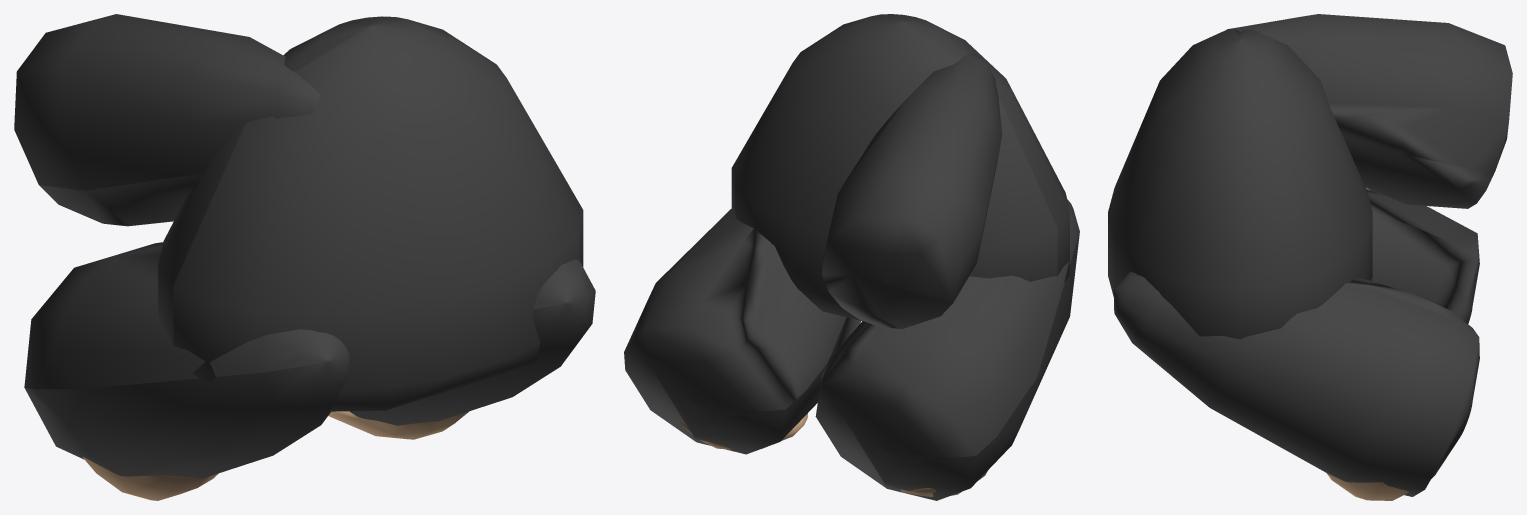
The model's file is hand_pachyderm_optimized60.glb.
3 renders of one model, left to right at view 1: azimuth 30°, elevation 25°; view 2: azimuth 150°, elevation 25°; view 3: azimuth 270°, elevation 25°, orthographic. The views are drawn at different scales.
Parts seen in each view (by area): view 1: CombinedMesh_MaterialSlots; view 2: CombinedMesh_MaterialSlots; view 3: CombinedMesh_MaterialSlots.
Boxes of the visible parts, x1,y1,x2,y2 form: CombinedMesh_MaterialSlots: (14, 14, 595, 500); CombinedMesh_MaterialSlots: (624, 14, 1079, 500); CombinedMesh_MaterialSlots: (1108, 14, 1512, 500).
Size of the model in its own units: 1.75 by 1.81 by 1.63.
